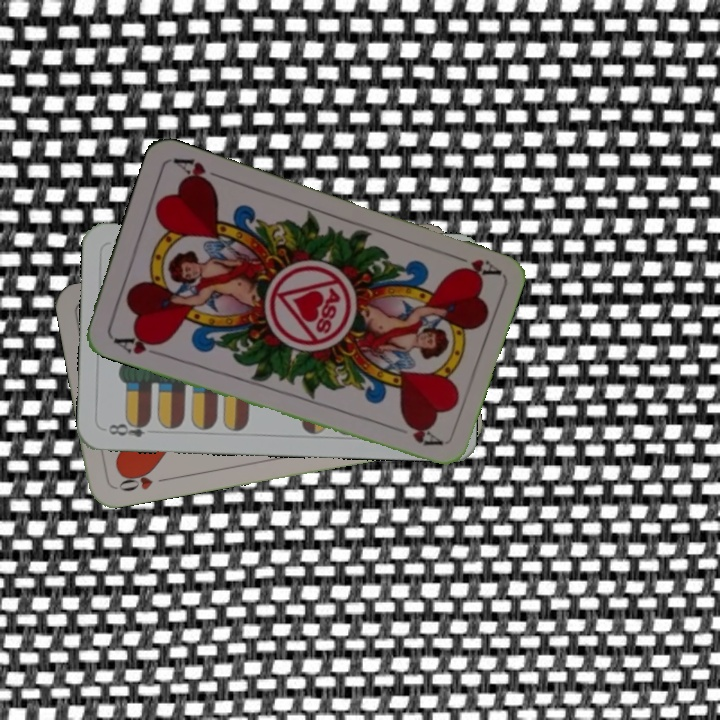E8: (104, 416, 152, 440)
HA: (444, 249, 501, 282), (109, 330, 166, 359)
HO: (112, 465, 171, 494)
